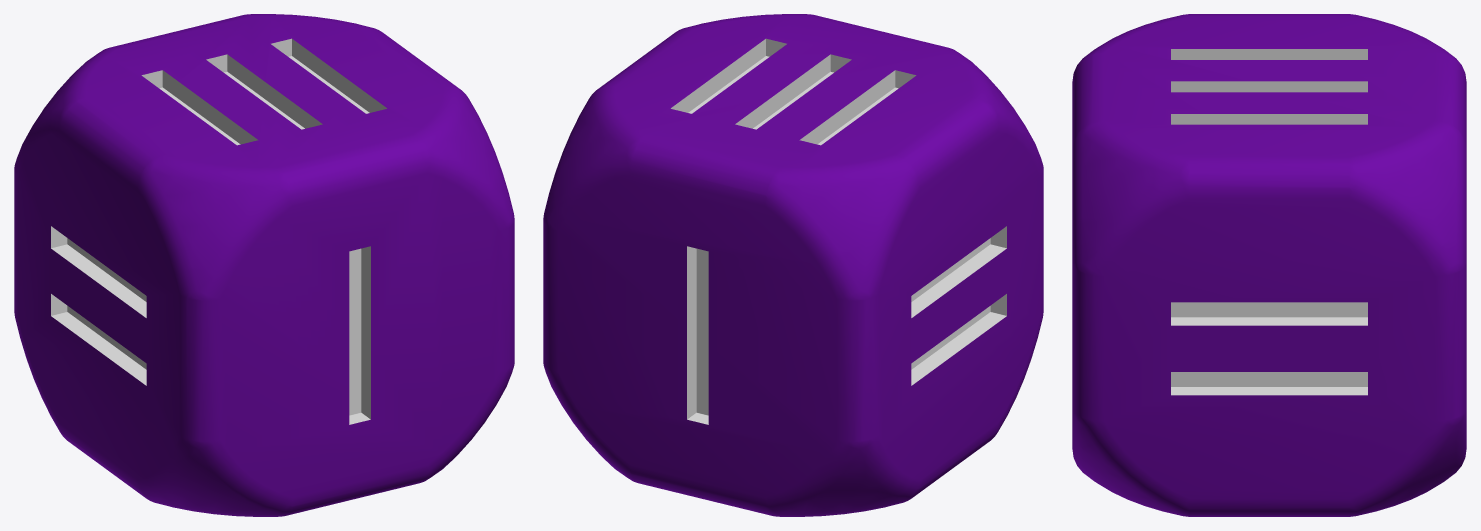
File: DieD3.glb
3 views of the same model, side by side, from view 1: azimuth 30°, elevation 25°; view 2: azimuth 150°, elevation 25°; view 3: azimuth 270°, elevation 25° (orthographic). The views are drawn at different scales.
Visible parts, largest first — view 1: Die_Body; view 2: Die_Body; view 3: Die_Body.
Part boxes in pixels (x1,y1,x2,y2): Die_Body: [14, 14, 514, 516]; Die_Body: [543, 14, 1043, 516]; Die_Body: [1072, 14, 1466, 516].
Bounding box in the file's own units: 1 × 1 × 1.
